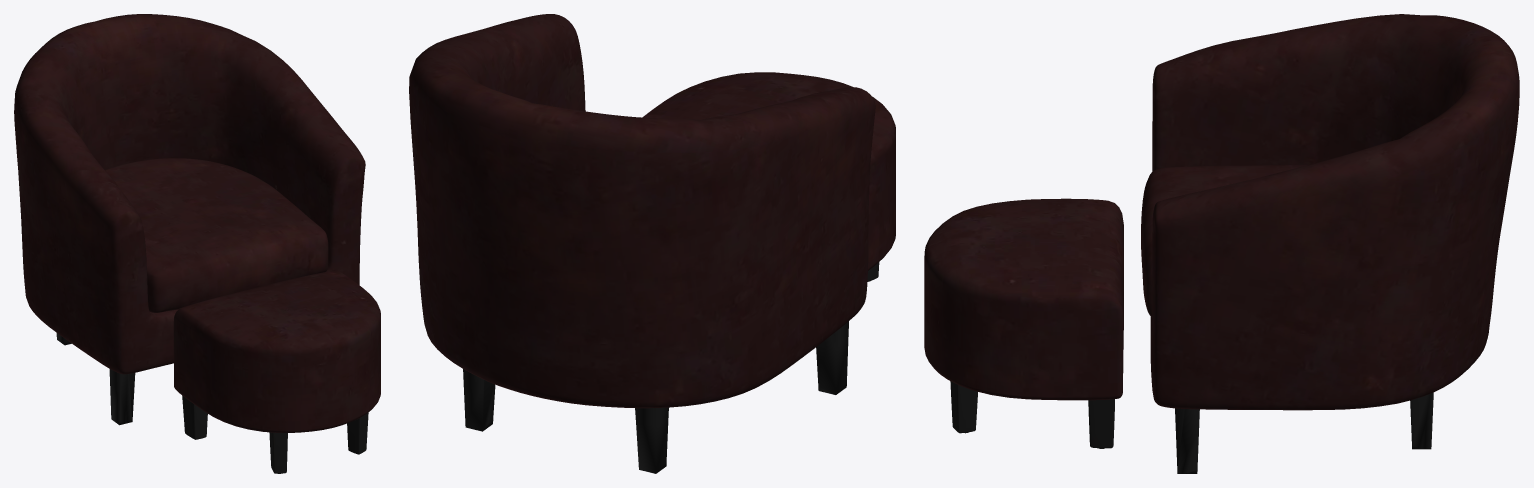
File: B082L7ZMZP.glb
3 renders of one model, left to right at view 1: azimuth 30°, elevation 25°; view 2: azimuth 150°, elevation 25°; view 3: azimuth 270°, elevation 25°, orthographic. The views are drawn at different scales.
Parts seen in each view (by area): view 1: RootNode; view 2: RootNode; view 3: RootNode.
Part boxes in pixels (left/top/right/bottom): RootNode: left=14, top=14, right=380, bottom=473; RootNode: left=409, top=14, right=895, bottom=473; RootNode: left=924, top=14, right=1519, bottom=473.
Bounding box in the file's own units: 0.7372 × 0.7554 × 1.18.
1 material, 1 textured.
